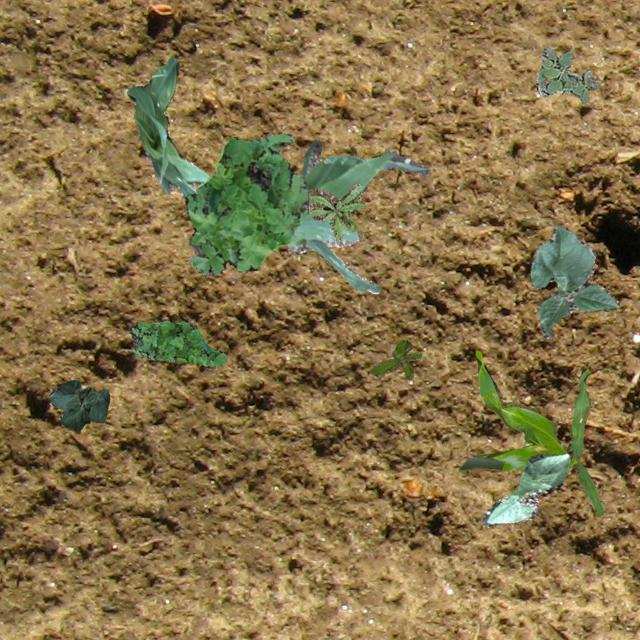crop: (458, 350, 604, 514), (286, 138, 428, 292), (126, 56, 208, 198), (530, 224, 618, 338), (480, 452, 570, 526), (46, 378, 108, 432)
weed: (185, 134, 308, 276), (128, 318, 226, 366), (534, 46, 598, 100), (306, 182, 364, 240), (368, 338, 421, 378)
